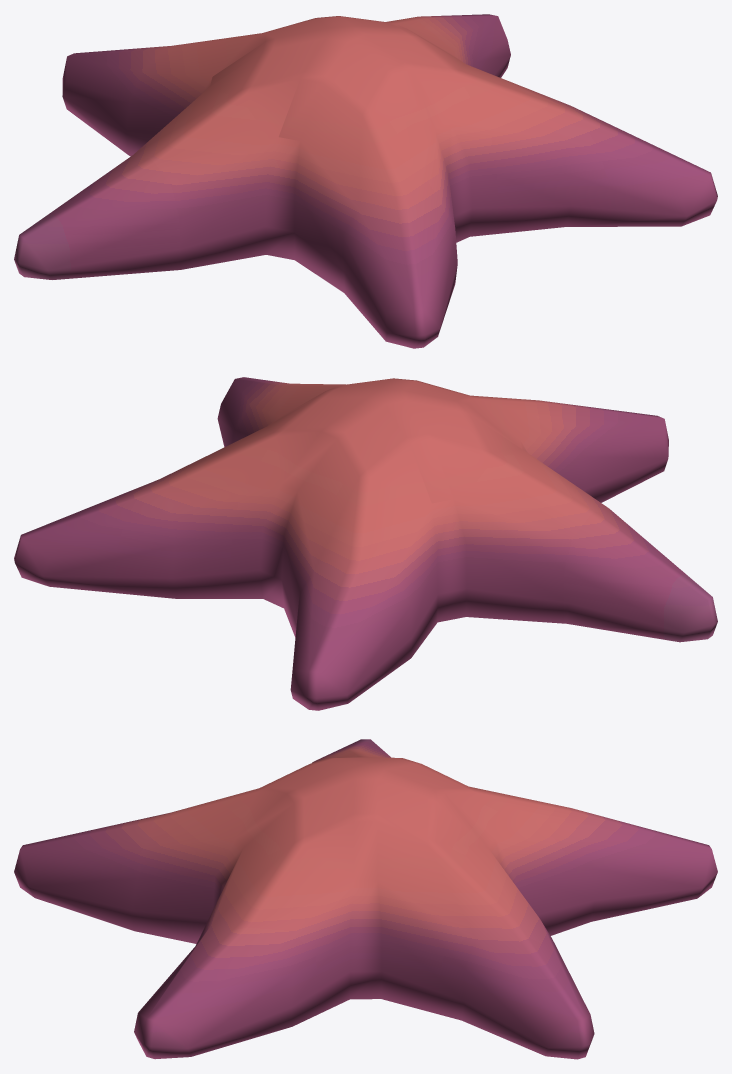
The model's file is model_starfish_01.fbx.
The picture shows the model from 3 angles, top to bottom: view 1: azimuth 30°, elevation 25°; view 2: azimuth 150°, elevation 25°; view 3: azimuth 270°, elevation 25°; orthographic projection.
Parts seen in each view (by area): view 1: pCylinder1; view 2: pCylinder1; view 3: pCylinder1.
Part boxes in pixels (x1,y1,x2,y2): pCylinder1: (14, 14, 717, 348); pCylinder1: (14, 377, 717, 710); pCylinder1: (14, 739, 717, 1059).
Size of the model in its own units: 9.12 by 2.4 by 9.46.
